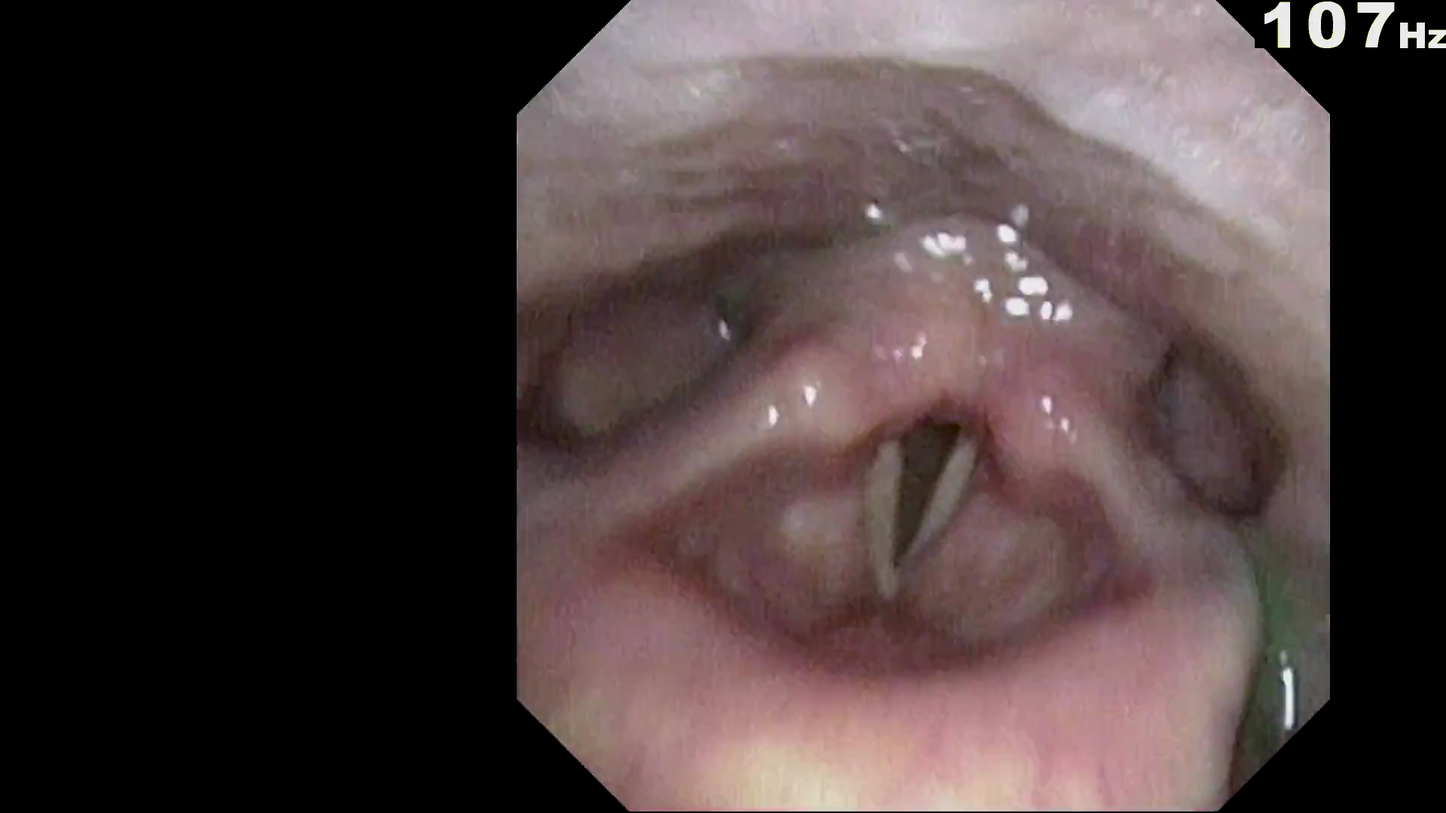trachea: (849, 378, 1004, 599)
